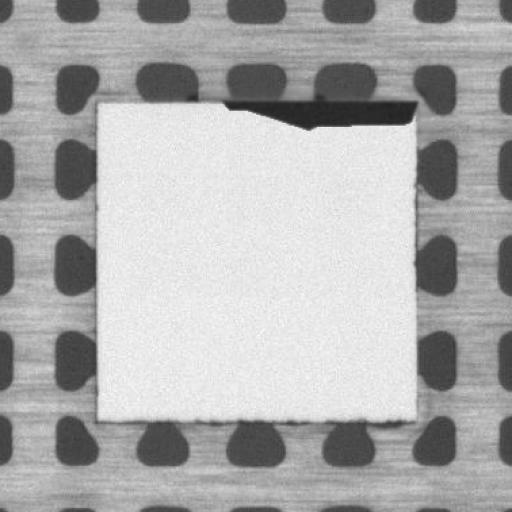DIE_BROKEN: (216, 93, 422, 130)
